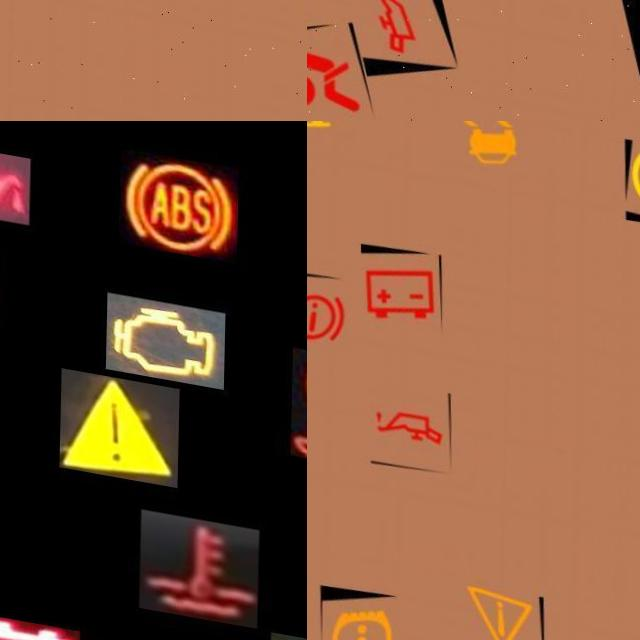Central Warning lamp: (61, 359, 181, 475)
Engine cooling system: (141, 498, 261, 612)
